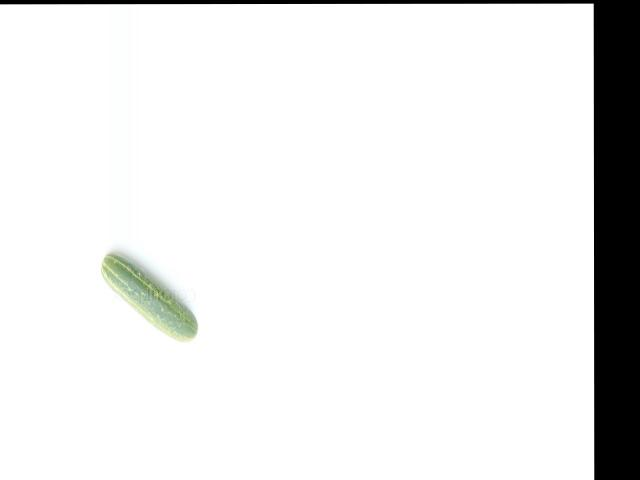cucumber: (99, 252, 197, 342)
